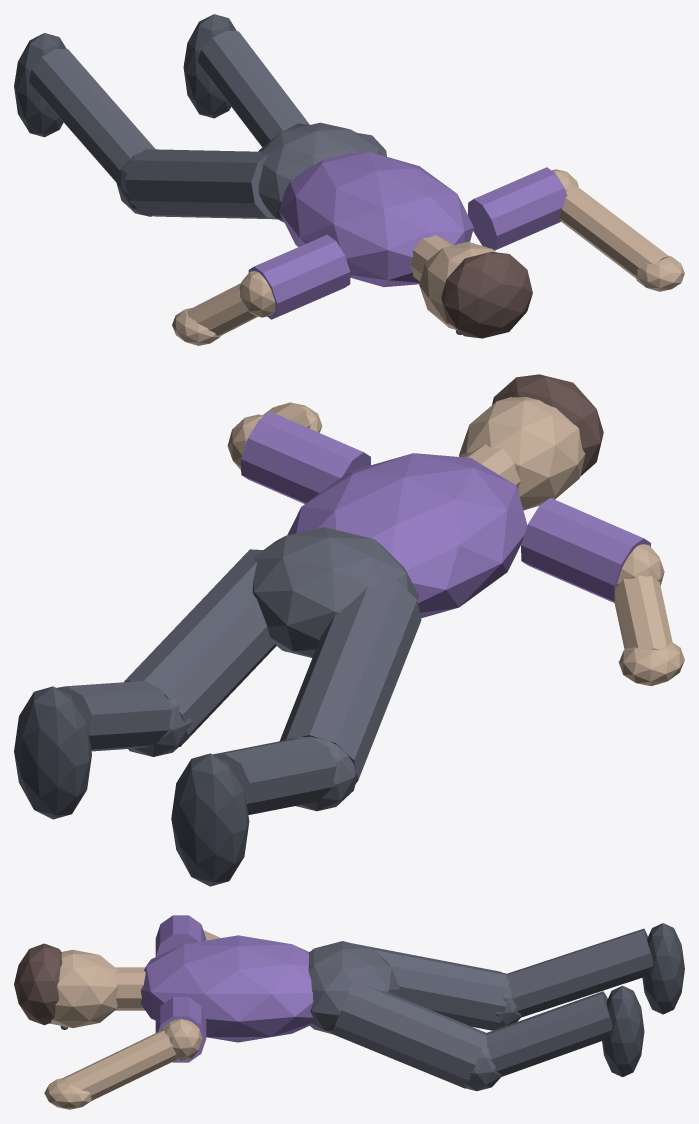
The picture shows the model from 3 angles, top to bottom: view 1: azimuth 30°, elevation 25°; view 2: azimuth 150°, elevation 25°; view 3: azimuth 270°, elevation 25°; orthographic projection. The views are drawn at different scales.
Visible parts, largest first — view 1: world; view 2: world; view 3: world.
Part boxes in pixels (left/top/right/bottom): world: left=14, top=14, right=684, bottom=345; world: left=14, top=374, right=684, bottom=886; world: left=14, top=915, right=684, bottom=1109.
Bounding box in the file's own units: 1.25 × 0.38 × 1.99.
